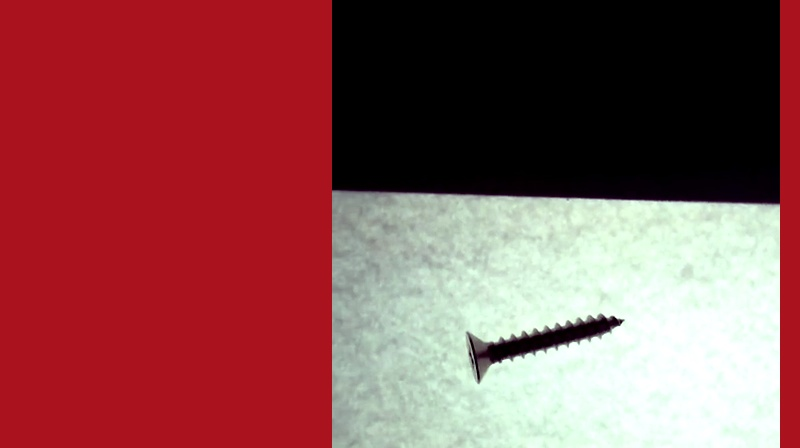S001: (464, 309, 627, 388)
